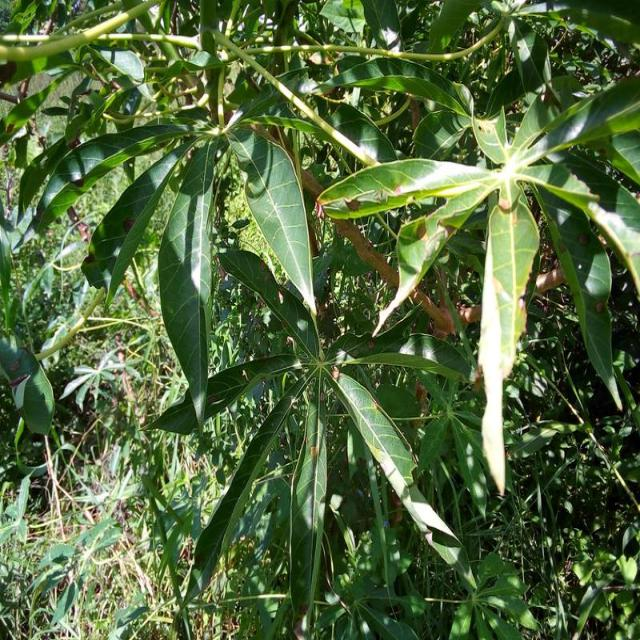cassava leaf: (225, 122, 318, 323), (155, 133, 217, 431)
